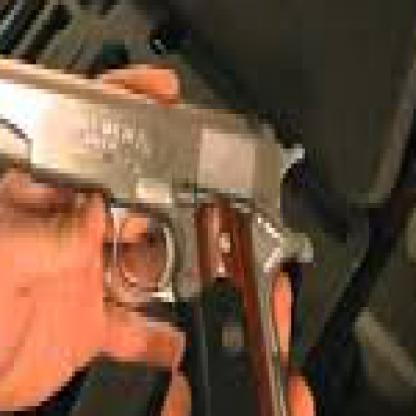gun: (241, 0, 316, 149)
